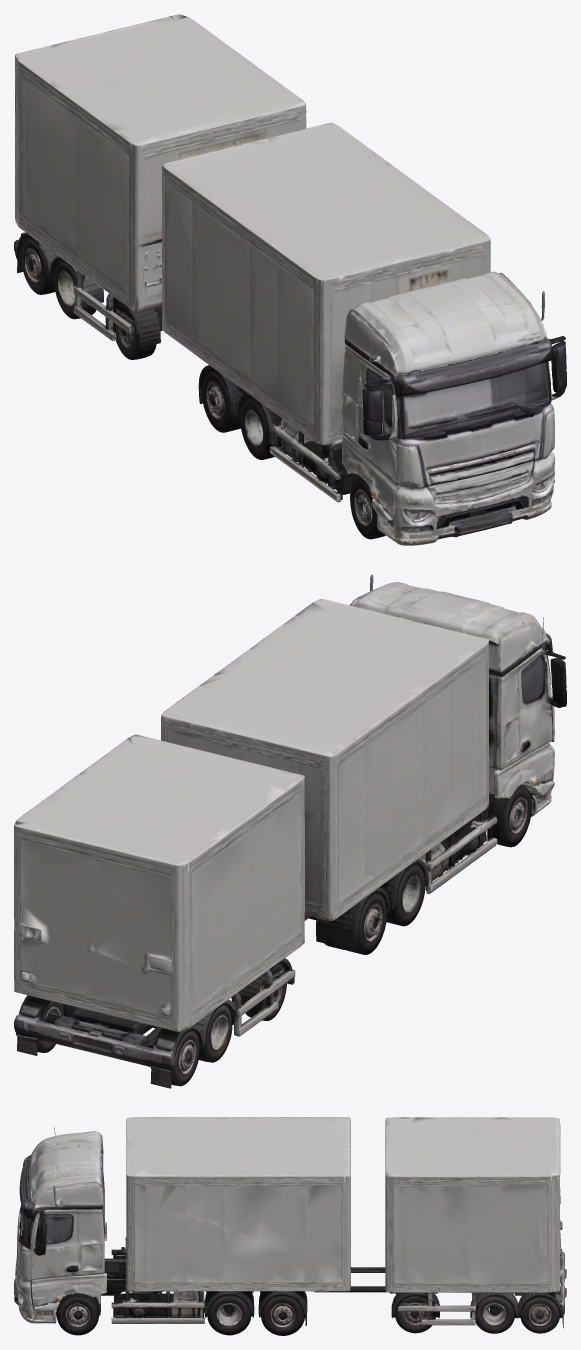
The model's file is Rigid + Drawbar.glb.
3 views of the same model, one above another, from view 1: azimuth 30°, elevation 25°; view 2: azimuth 150°, elevation 25°; view 3: azimuth 270°, elevation 25° (orthographic). The views are drawn at different scales.
Parts seen in each view (by area): view 1: tripo_node_5ba92b18-e775-4910-809f-6ee156aebfcb; view 2: tripo_node_5ba92b18-e775-4910-809f-6ee156aebfcb; view 3: tripo_node_5ba92b18-e775-4910-809f-6ee156aebfcb.
Boxes of the visible parts, bbox=[...] form: tripo_node_5ba92b18-e775-4910-809f-6ee156aebfcb: bbox=[14, 14, 566, 545]; tripo_node_5ba92b18-e775-4910-809f-6ee156aebfcb: bbox=[14, 574, 566, 1088]; tripo_node_5ba92b18-e775-4910-809f-6ee156aebfcb: bbox=[14, 1117, 566, 1335].
Bounding box in the file's own units: 0.2894 × 0.32 × 0.9816.
Materials: 1 (1 with a texture image).
